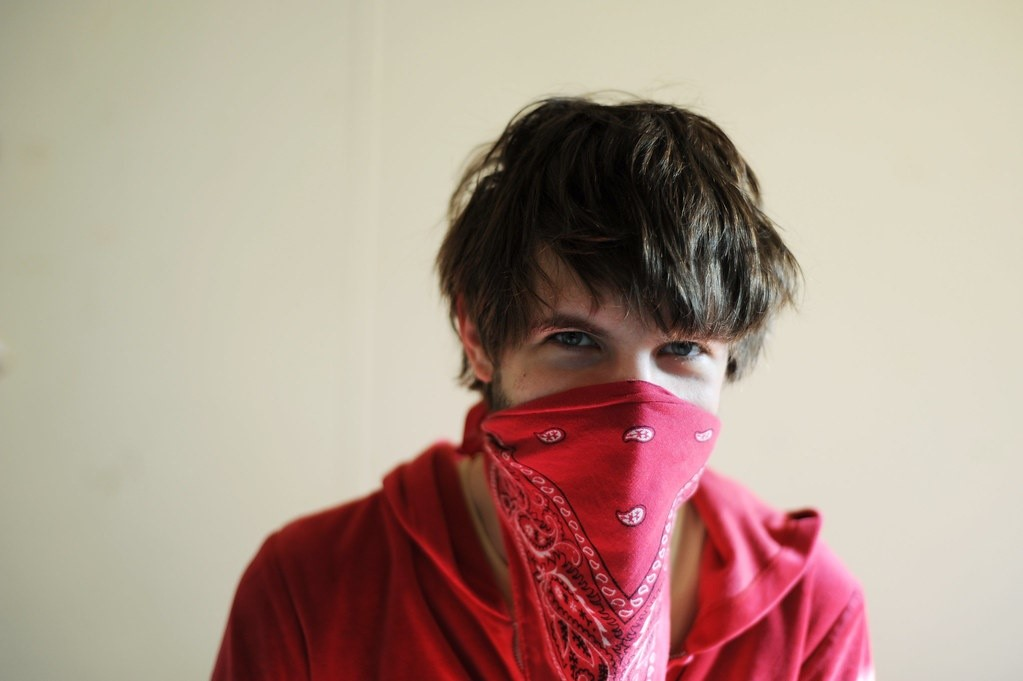face_with_mask: (470, 136, 727, 520)
